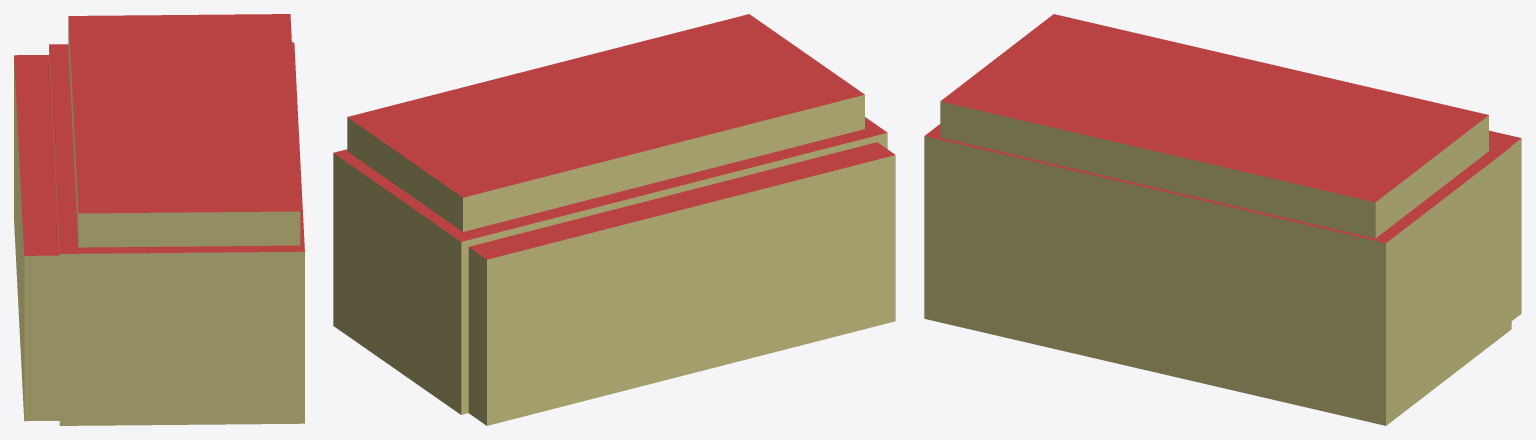
The picture shows the model from 3 angles, left to right: view 1: azimuth 30°, elevation 25°; view 2: azimuth 150°, elevation 25°; view 3: azimuth 270°, elevation 25°; orthographic projection. The views are drawn at different scales.
Visible parts, largest first — view 1: group_4, group_6, group_5, group_9, group_8, group_3; view 2: group_9, group_4, group_6, group_5, group_8, group_3; view 3: group_6, group_4, group_5, group_3, group_9.
Boxes of the visible parts, <box> form: group_4: <box>68,14,300,213</box>; group_6: <box>49,45,304,425</box>; group_5: <box>68,16,300,247</box>; group_9: <box>14,58,59,421</box>; group_8: <box>14,55,59,255</box>; group_3: <box>49,42,304,253</box>; group_9: <box>468,155,895,425</box>; group_4: <box>347,14,864,197</box>; group_6: <box>333,133,887,414</box>; group_5: <box>347,95,864,231</box>; group_8: <box>469,142,894,259</box>; group_3: <box>333,117,887,241</box>; group_6: <box>924,136,1511,425</box>; group_4: <box>940,14,1488,202</box>; group_5: <box>940,101,1488,238</box>; group_3: <box>925,124,1510,242</box>; group_9: <box>1511,138,1521,320</box>.
Size of the model in its own units: 29.46 by 34.59 by 14.
